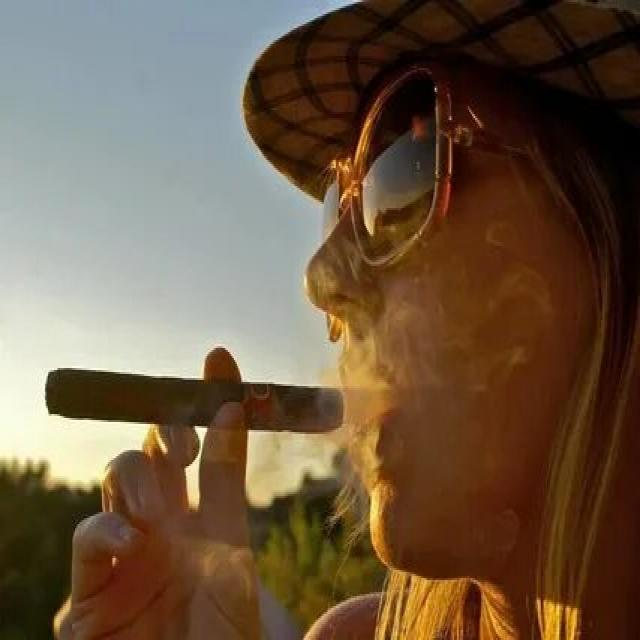cigarette: (40, 362, 351, 440)
